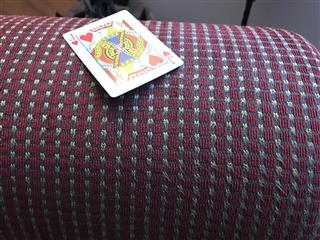JackOfHearts: (62, 9, 184, 98)
